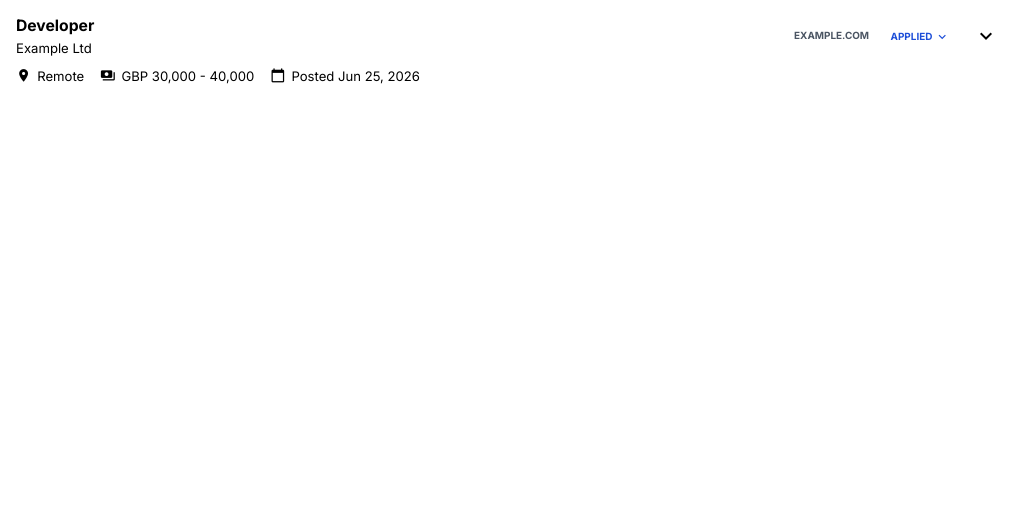
Test: JobCardComponent › hides upload buttons for applied but keeps downloads visible
This screenshot has width=1024, height=532.
What coordinates should you click on to do the following:
click the button "Developer Example Ltd"
I would click on:
 (55, 25)
Its box is [16, 14, 771, 58].
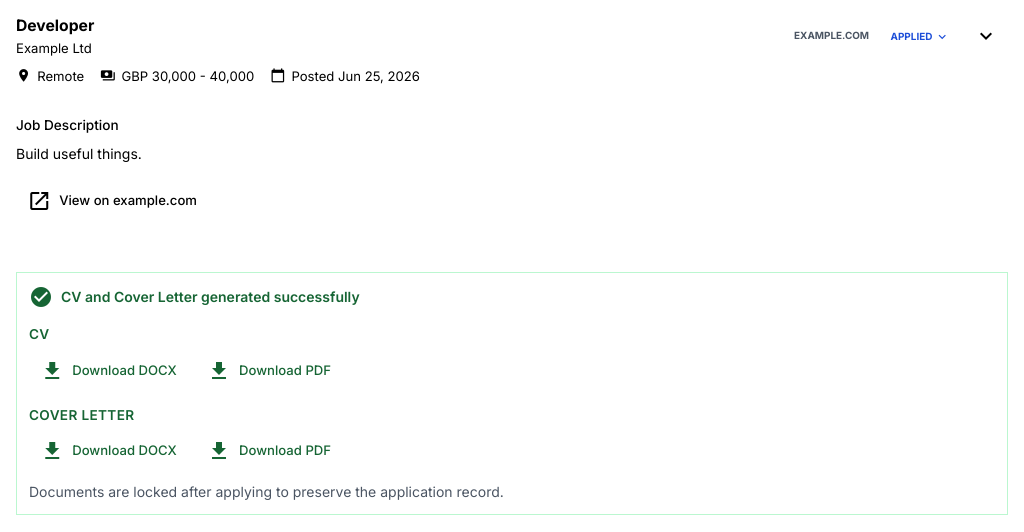
Now the text "Download DOCX" is shown, box [29, 352, 188, 390]
Now the text "Download PDF" is shown, box [196, 352, 342, 390]
Now the text "Documents are locked after applying" is shown, box [29, 483, 504, 500]
